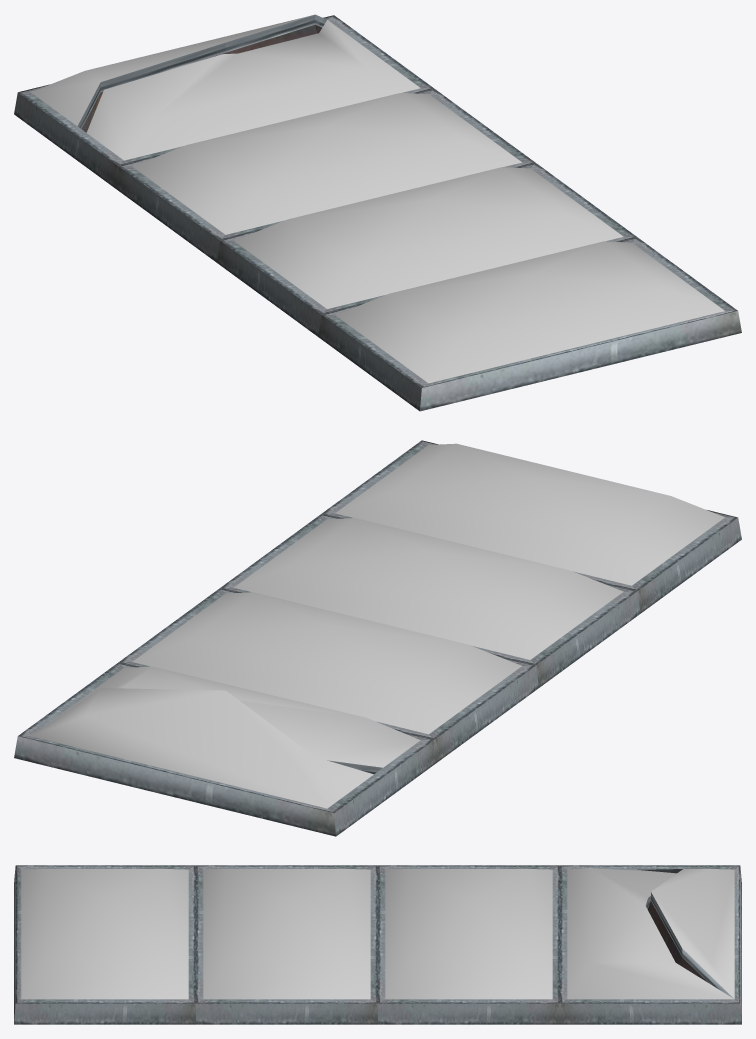
Rendered from roof_window3.fbx.
The picture shows the model from 3 angles, top to bottom: view 1: azimuth 30°, elevation 25°; view 2: azimuth 150°, elevation 25°; view 3: azimuth 270°, elevation 25°; orthographic projection. The views are drawn at different scales.
Visible parts, largest first — view 1: roof_window3; view 2: roof_window3; view 3: roof_window3.
Part boxes in pixels (x1,y1,x2,y2): roof_window3: [14, 14, 741, 411]; roof_window3: [14, 440, 741, 836]; roof_window3: [14, 865, 741, 1024].
Bounding box in the file's own units: 217 × 44.88 × 474.
